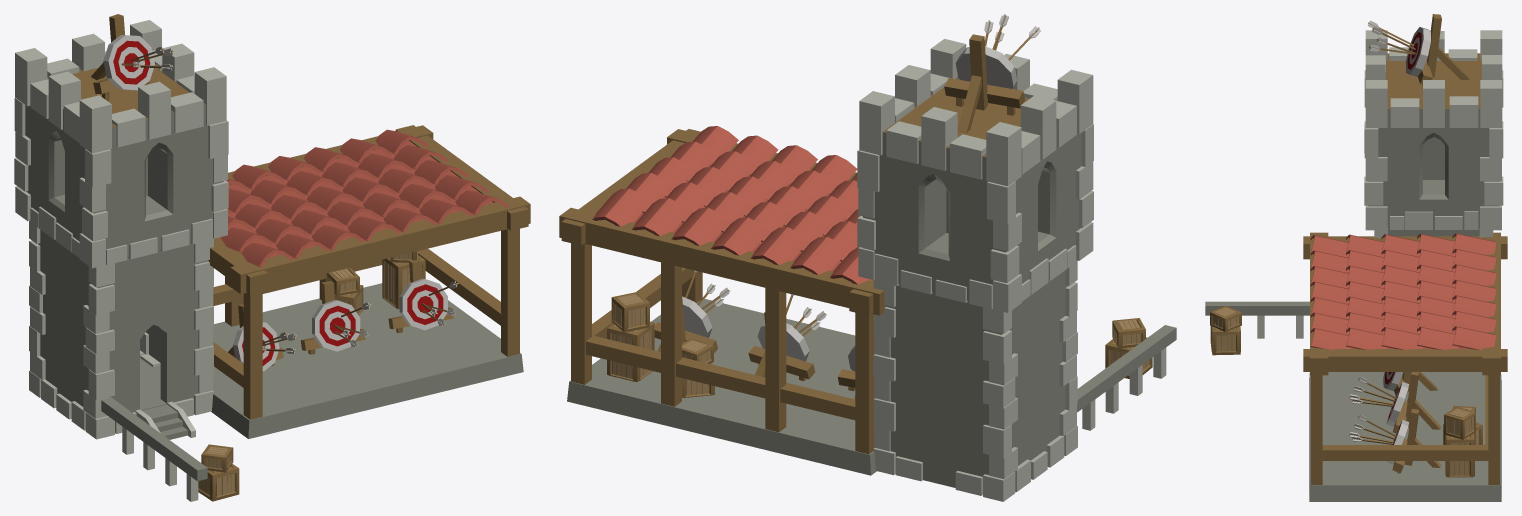
File: quaternius-real-time-strategy-archery-second-age-level-1.glb
3 views of the same model, side by side, from view 1: azimuth 30°, elevation 25°; view 2: azimuth 150°, elevation 25°; view 3: azimuth 270°, elevation 25° (orthographic). The views are drawn at different scales.
Visible parts, largest first — view 1: Archery_SecondAge_Level1; view 2: Archery_SecondAge_Level1; view 3: Archery_SecondAge_Level1.
Part boxes in pixels (left/top/right/bottom): Archery_SecondAge_Level1: left=14, top=14, right=530, bottom=501; Archery_SecondAge_Level1: left=559, top=14, right=1176, bottom=501; Archery_SecondAge_Level1: left=1205, top=14, right=1507, bottom=501.
Bounding box in the file's own units: 1.38 × 1.25 × 1.
1 material, 1 textured.
